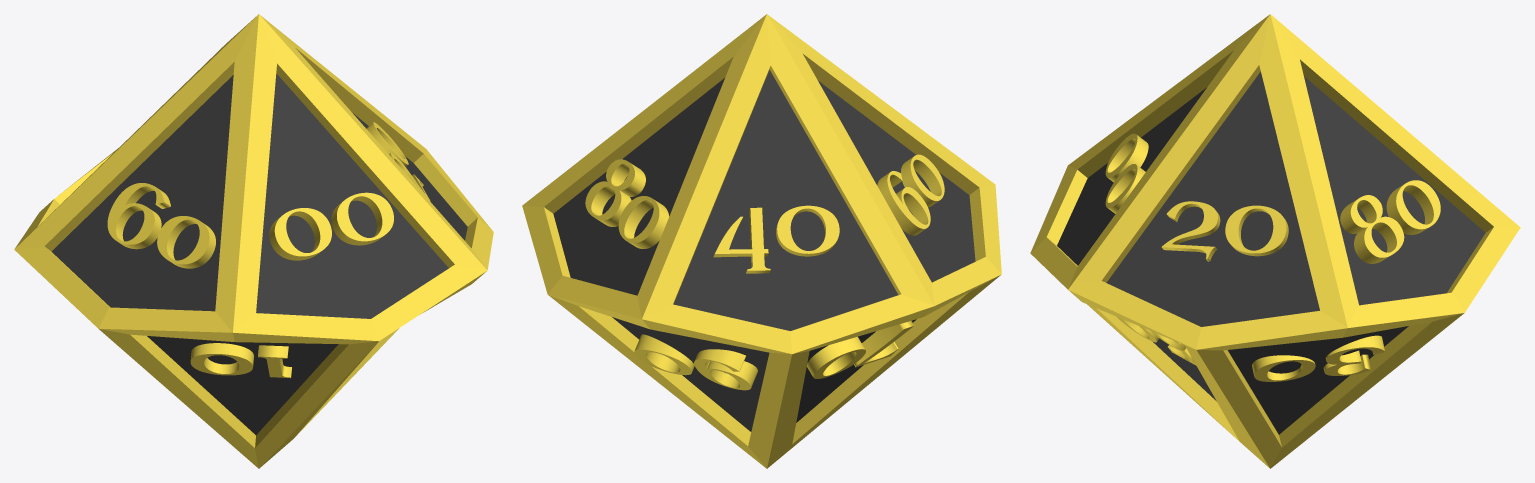
The picture shows the model from 3 angles, left to right: view 1: azimuth 30°, elevation 25°; view 2: azimuth 150°, elevation 25°; view 3: azimuth 270°, elevation 25°; orthographic projection.
Parts seen in each view (by area): view 1: Icosphere.001, d100_face_00, d100_face_60, d100_face_10, Text.041, Text.044, Text.040, d100_face_20, Text.045; view 2: Icosphere.001, d100_face_40, d100_face_80, d100_face_60, Text.043, d100_face_90, Text.038, Text.041, Text.042, Text.039, d100_face_70; view 3: Icosphere.001, d100_face_20, d100_face_80, d100_face_30, Text.043, d100_face_00, Text.045, Text.037, Text.044, Text.036, d100_face_50.
Part boxes in pixels (bbox=[...]): Icosphere.001: bbox=[14, 14, 493, 468]; d100_face_00: bbox=[256, 73, 448, 318]; d100_face_60: bbox=[51, 75, 233, 311]; d100_face_10: bbox=[147, 336, 338, 434]; Text.041: bbox=[107, 183, 215, 268]; Text.044: bbox=[269, 192, 393, 260]; Text.040: bbox=[190, 343, 291, 378]; d100_face_20: bbox=[352, 112, 467, 240]; Text.045: bbox=[366, 122, 430, 201]; Icosphere.001: bbox=[522, 14, 1001, 468]; d100_face_40: bbox=[673, 70, 898, 330]; d100_face_80: bbox=[553, 78, 724, 295]; d100_face_60: bbox=[818, 80, 975, 282]; Text.043: bbox=[585, 159, 669, 248]; d100_face_90: bbox=[612, 317, 769, 431]; Text.038: bbox=[634, 334, 757, 390]; Text.041: bbox=[877, 154, 944, 235]; Text.042: bbox=[713, 205, 839, 273]; Text.039: bbox=[807, 321, 914, 378]; d100_face_70: bbox=[796, 319, 916, 422]; Icosphere.001: bbox=[1030, 14, 1520, 468]; d100_face_20: bbox=[1106, 71, 1319, 326]; d100_face_80: bbox=[1304, 76, 1485, 305]; d100_face_30: bbox=[1227, 326, 1408, 434]; Text.043: bbox=[1340, 180, 1440, 263]; d100_face_00: bbox=[1057, 87, 1206, 265]; Text.045: bbox=[1161, 201, 1288, 261]; Text.037: bbox=[1252, 335, 1385, 381]; Text.044: bbox=[1105, 133, 1148, 213]; Text.036: bbox=[1116, 316, 1196, 365]; d100_face_50: bbox=[1153, 338, 1216, 401].
Bounding box in the file's own units: 3.02 × 3.19 × 3.11.
